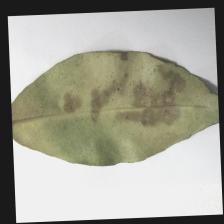black spot: (58, 68, 182, 130)
